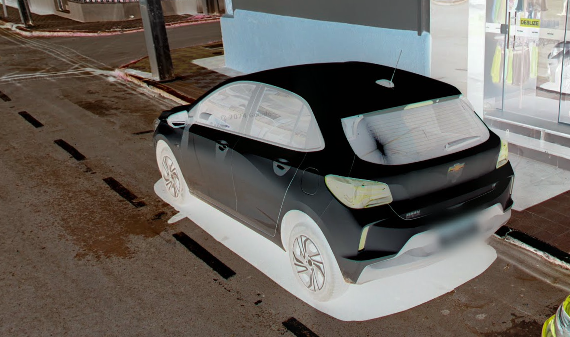car: (149, 47, 513, 309)
